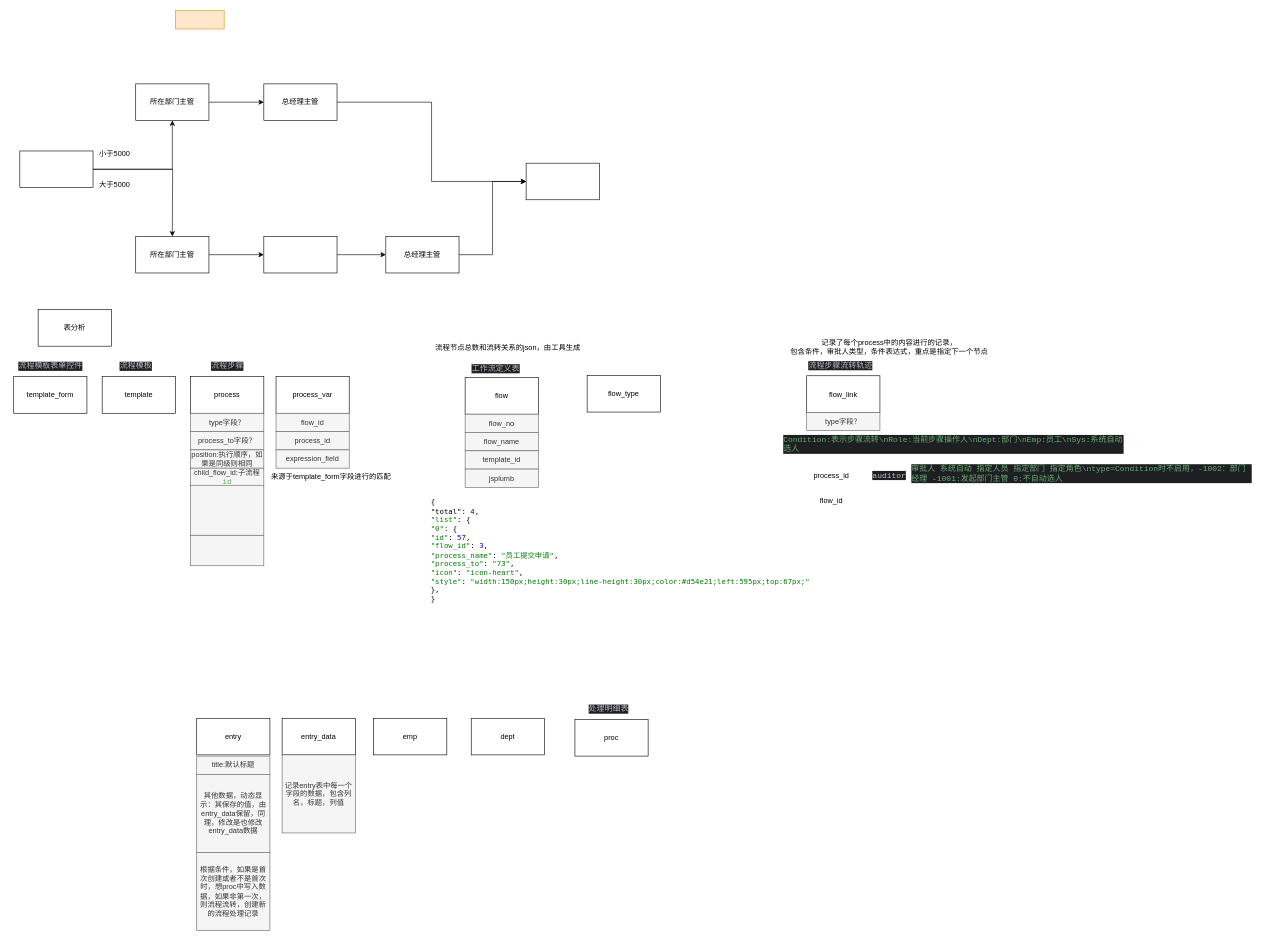
Some shapes in this 1262 by 941 pixel diagram are drawn without their labels. Each missing label, with the centre of its shape:
"child_after: 子流程结束后 1. 同时结束父流程 2. 返回父流程" goes at (227,510).
"child_back_process: 子流程结束后返回父流程进程" goes at (227,550).
"user" goes at (56,169).
"备用金申请" goes at (199,19).
"结束" goes at (562,181).
"综管部" goes at (300,254).
